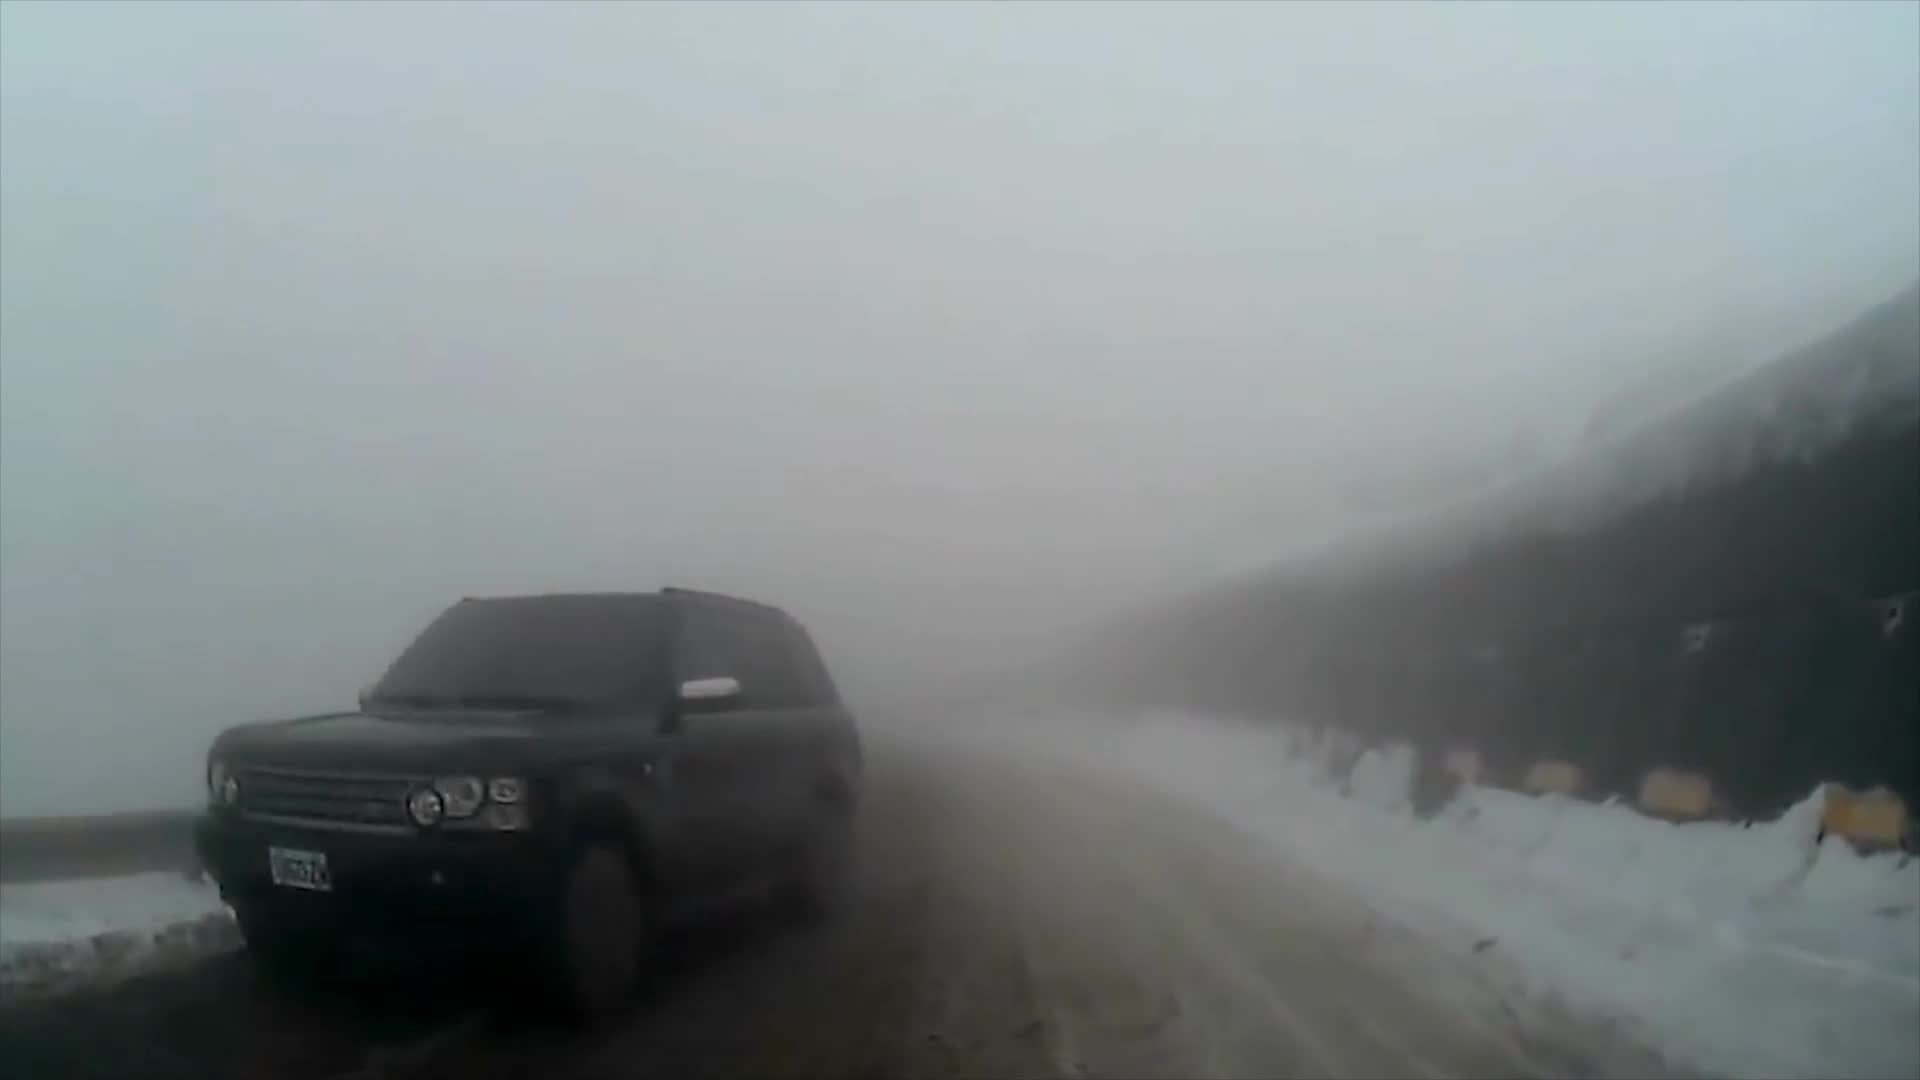vehicle: (191, 584, 862, 1038)
